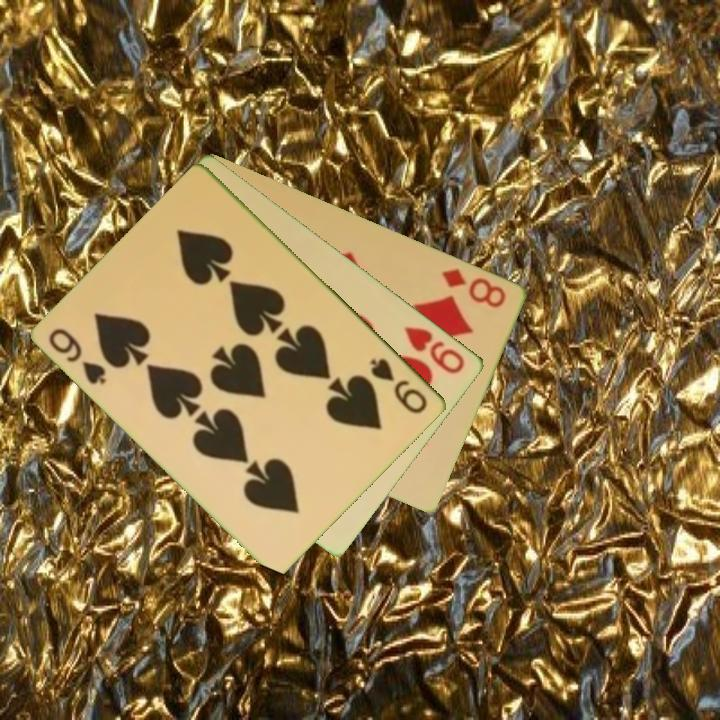8d: (438, 264, 510, 311)
9h: (401, 323, 468, 377)
9s: (46, 324, 110, 388), (367, 355, 431, 417)
